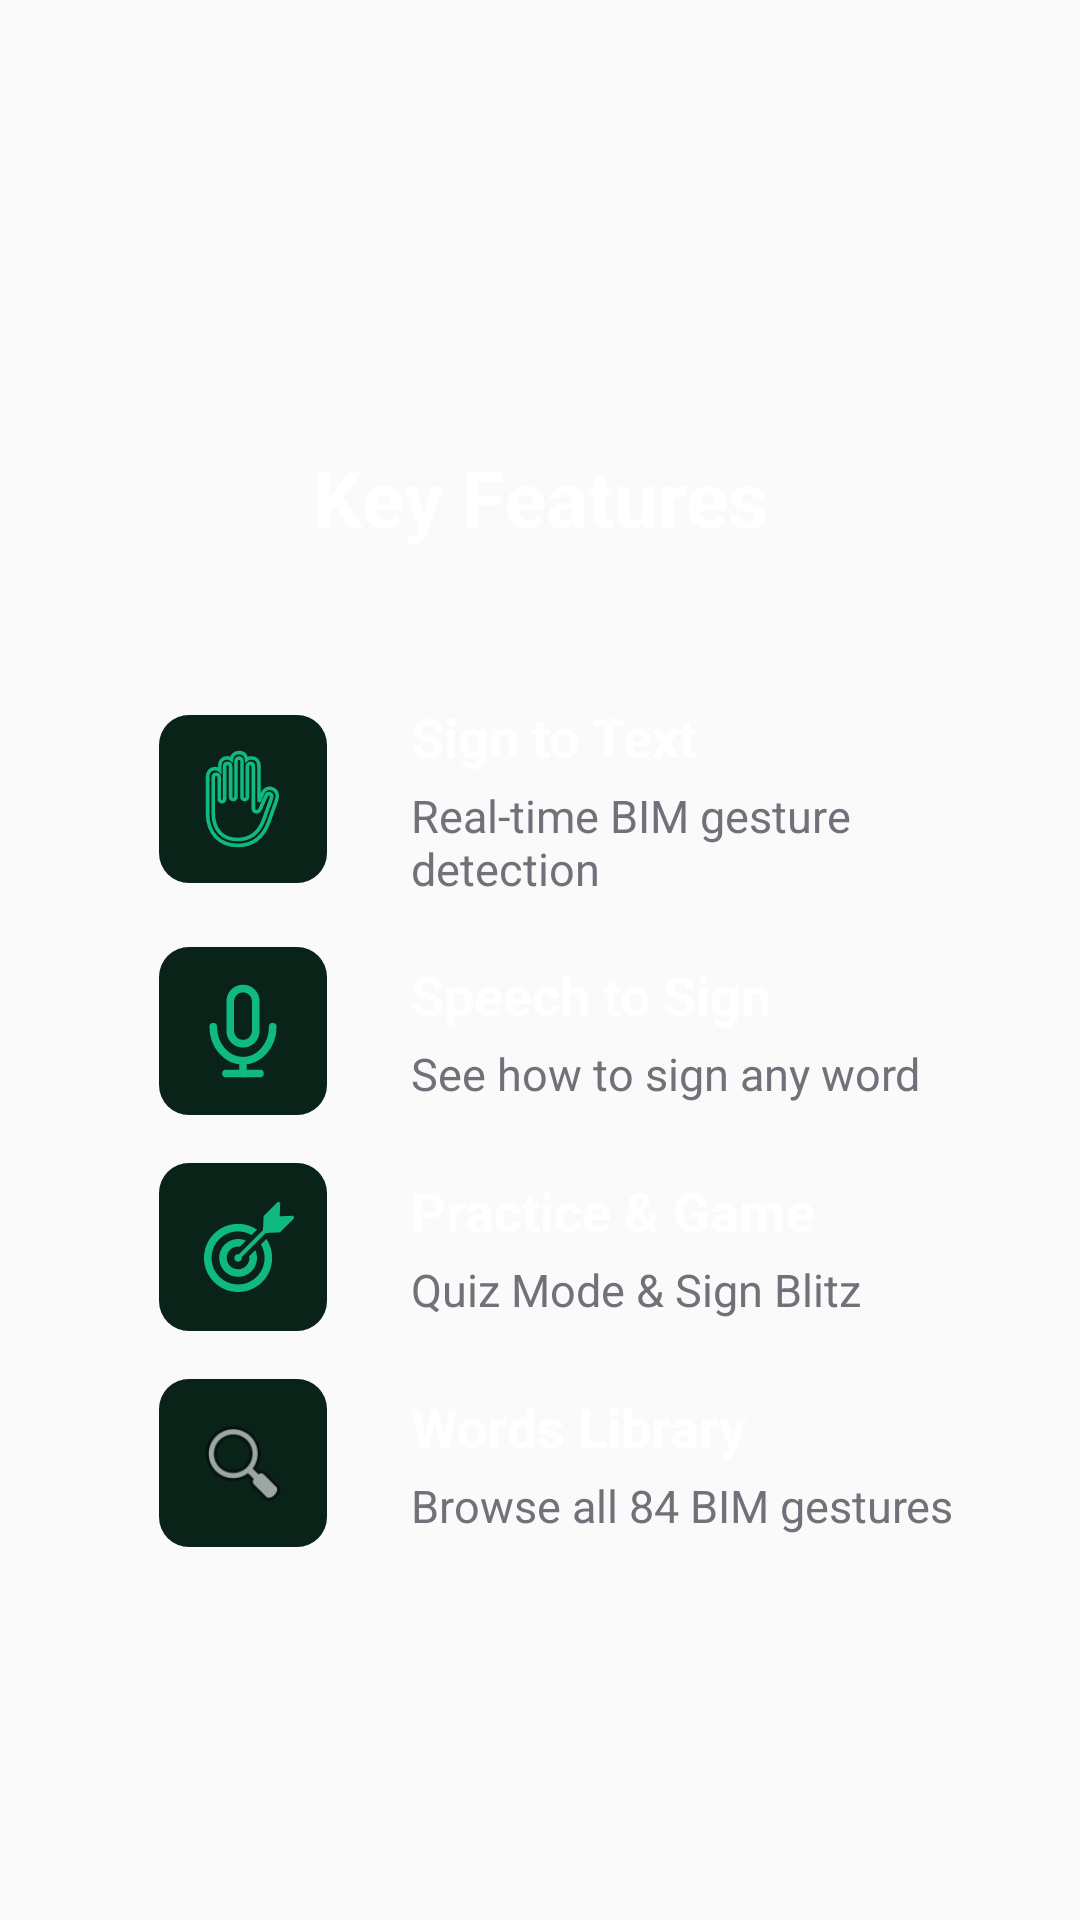

Point at icon controls on the screen. Image size 1080 × 1920, points as point (x, y).
search: point (243, 1463)
translate sign: point (242, 799)
translate speech: point (243, 1031)
